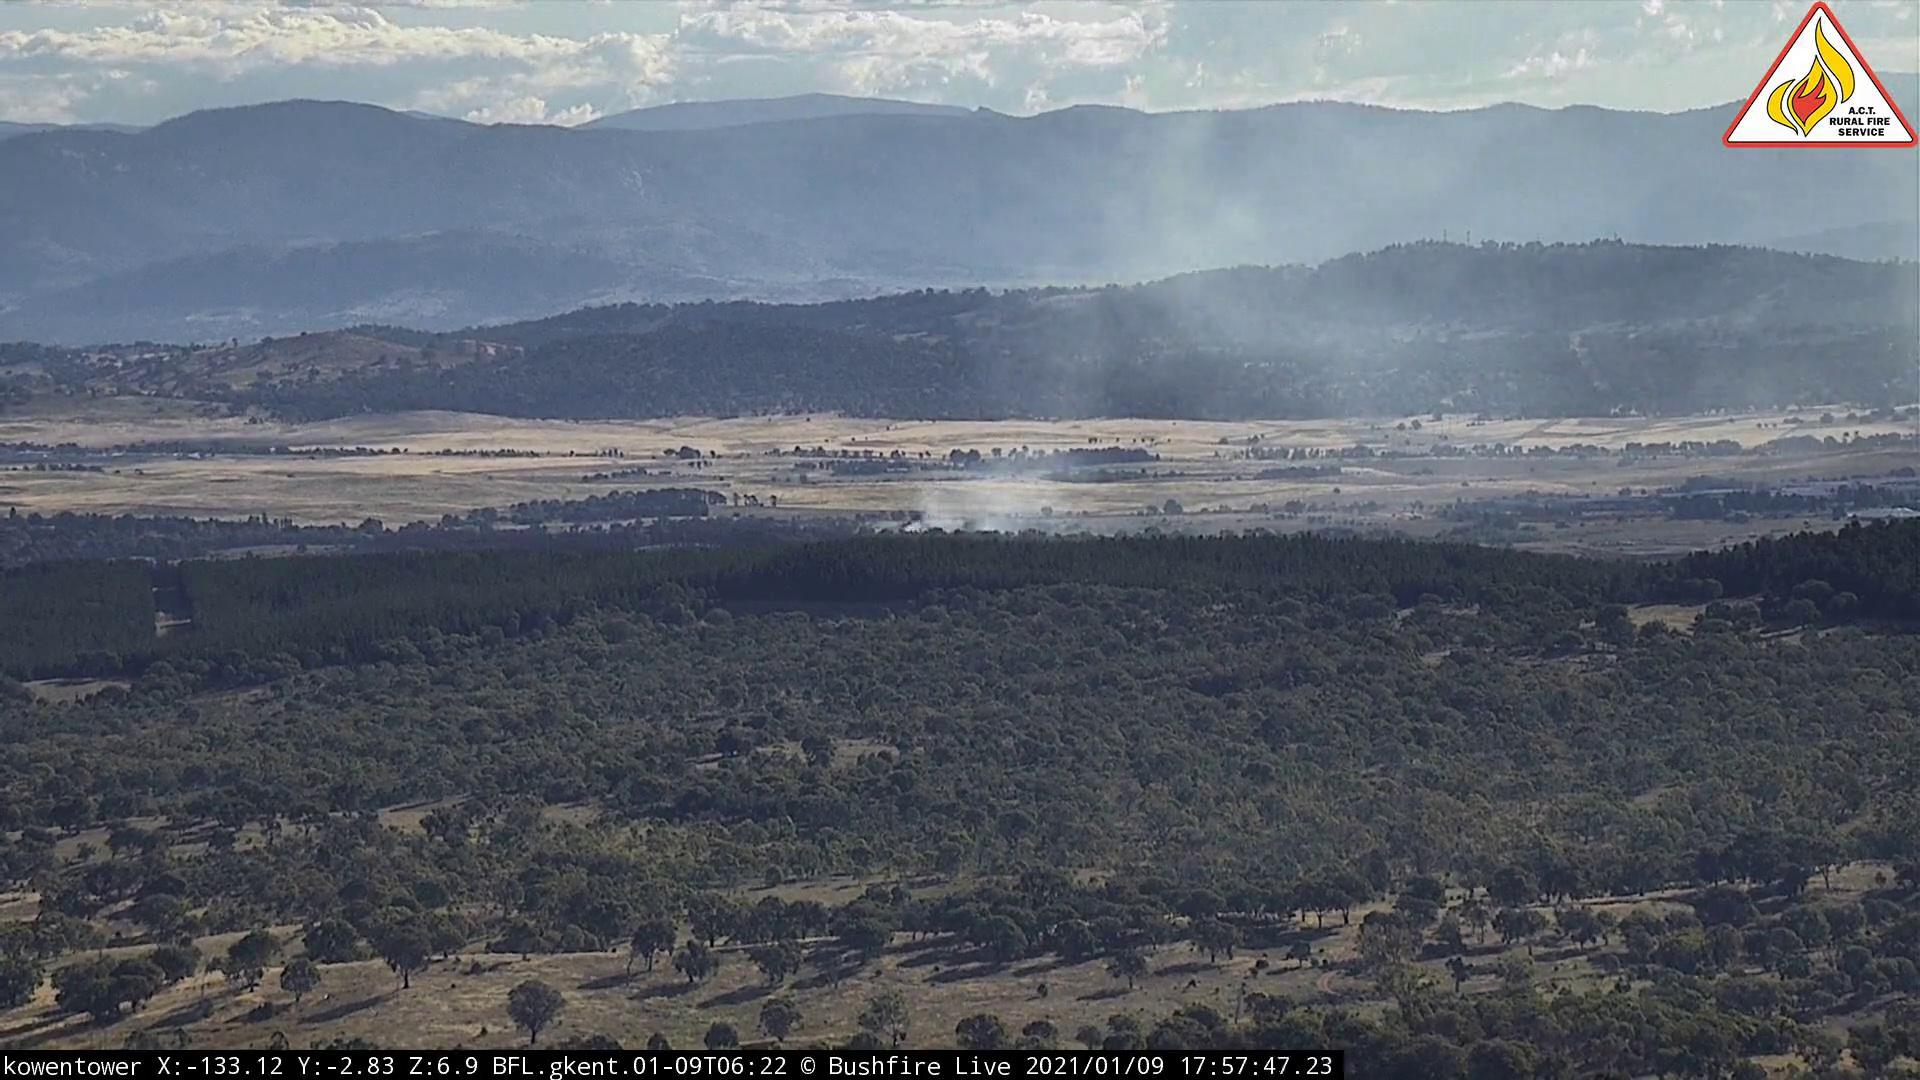Smoke: (891, 117, 1714, 541)
